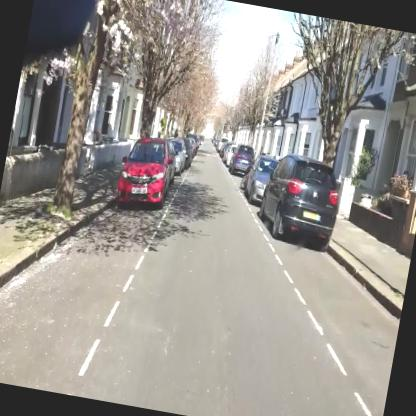car: (254, 151, 345, 250), (113, 133, 174, 213), (242, 154, 279, 206), (227, 142, 256, 180), (164, 138, 188, 174)
